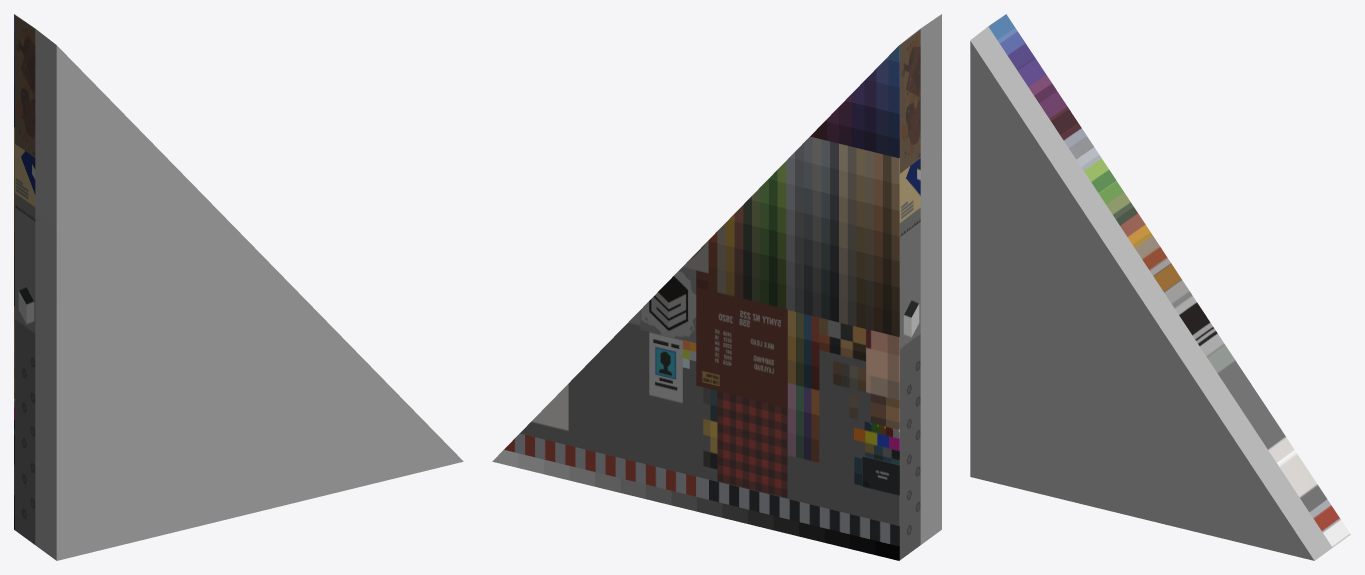
Rendered from SM_Bld_Base_Wall_Half_Angle_02.glb.
3 views of the same model, side by side, from view 1: azimuth 30°, elevation 25°; view 2: azimuth 150°, elevation 25°; view 3: azimuth 330°, elevation 25° (orthographic). The views are drawn at different scales.
Parts seen in each view (by area): view 1: SM_Bld_Base_Wall_Half_Angle_02; view 2: SM_Bld_Base_Wall_Half_Angle_02; view 3: SM_Bld_Base_Wall_Half_Angle_02.
Part boxes in pixels (left/top/right/bottom): SM_Bld_Base_Wall_Half_Angle_02: left=14, top=14, right=463, bottom=560; SM_Bld_Base_Wall_Half_Angle_02: left=492, top=14, right=941, bottom=560; SM_Bld_Base_Wall_Half_Angle_02: left=970, top=14, right=1350, bottom=560.
Bounding box in the file's own units: 1.24 × 1.5 × 0.225.
2 materials, 1 textured.
